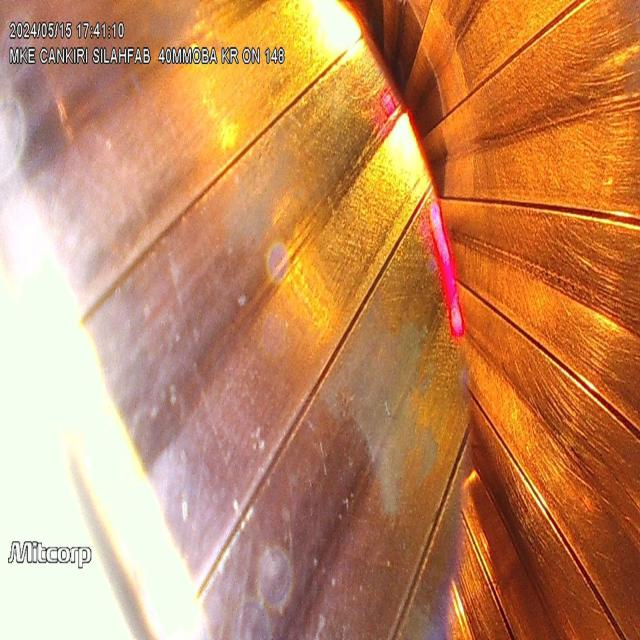hata_8.2: (314, 309, 452, 532)
